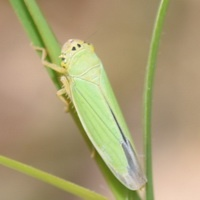insect: (38, 39, 145, 189)
